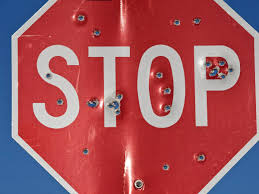stop sign: (11, 1, 259, 194)
